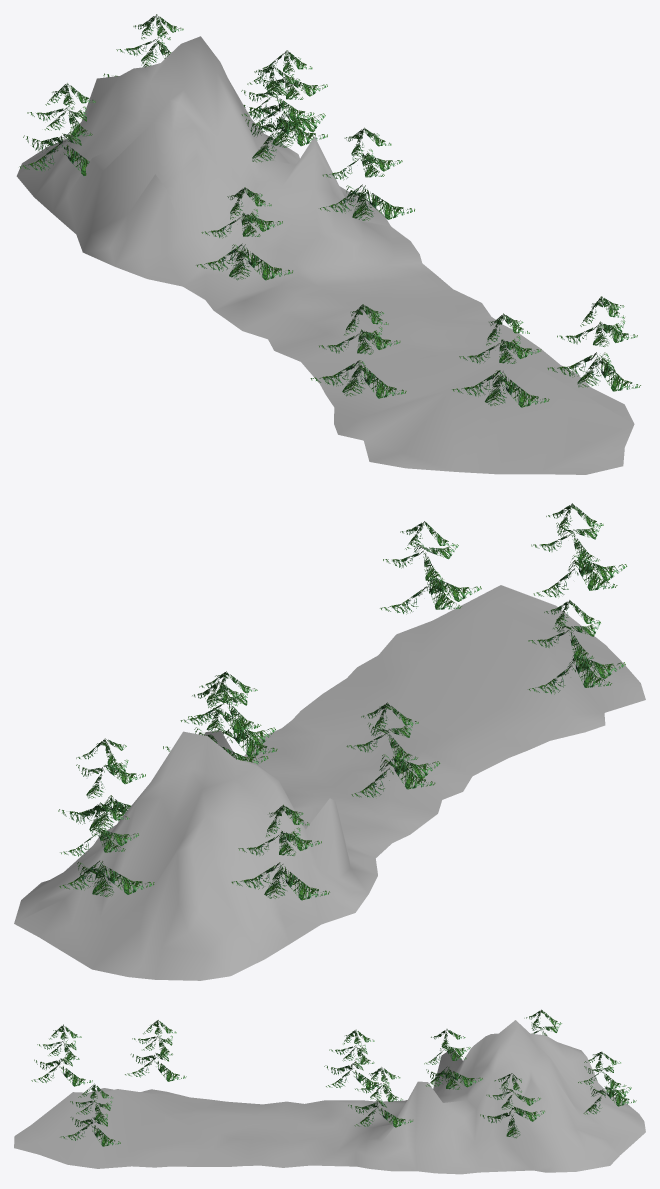
File: snow_island_01.fbx
3 views of the same model, one above another, from view 1: azimuth 30°, elevation 25°; view 2: azimuth 150°, elevation 25°; view 3: azimuth 270°, elevation 25° (orthographic). The views are drawn at different scales.
Parts seen in each view (by area): view 1: snow_island_01; view 2: snow_island_01; view 3: snow_island_01.
Boxes of the visible parts, x1,y1,x2,y2 form: snow_island_01: (16,14,640,474); snow_island_01: (14,503,645,980); snow_island_01: (14,1009,645,1174).
Size of the model in its own units: 0.1722 by 0.1036 by 0.4783.
2 materials, 1 textured.
